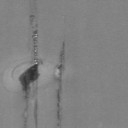slag inclusion: (20, 64, 39, 100), (60, 50, 64, 60), (57, 90, 60, 102), (58, 64, 63, 70), (58, 110, 60, 119), (34, 30, 37, 34)
